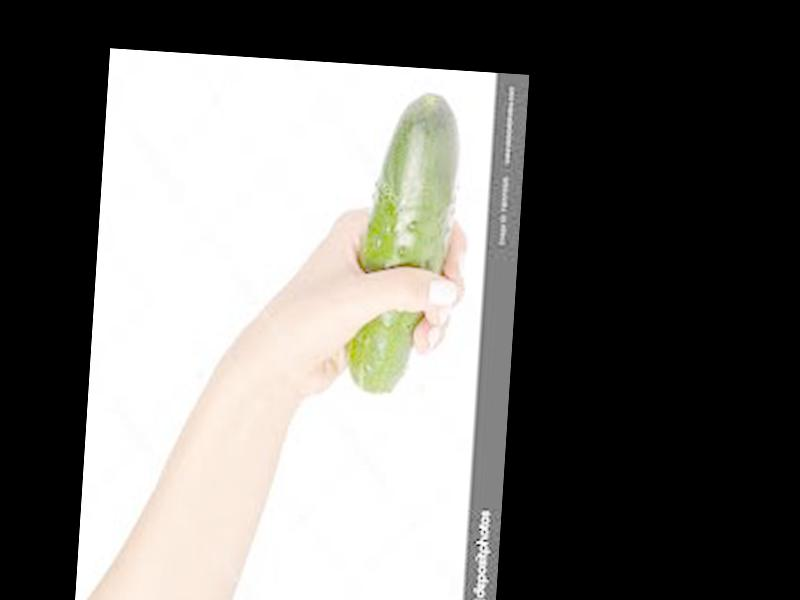Cucumber: (343, 88, 463, 396)
